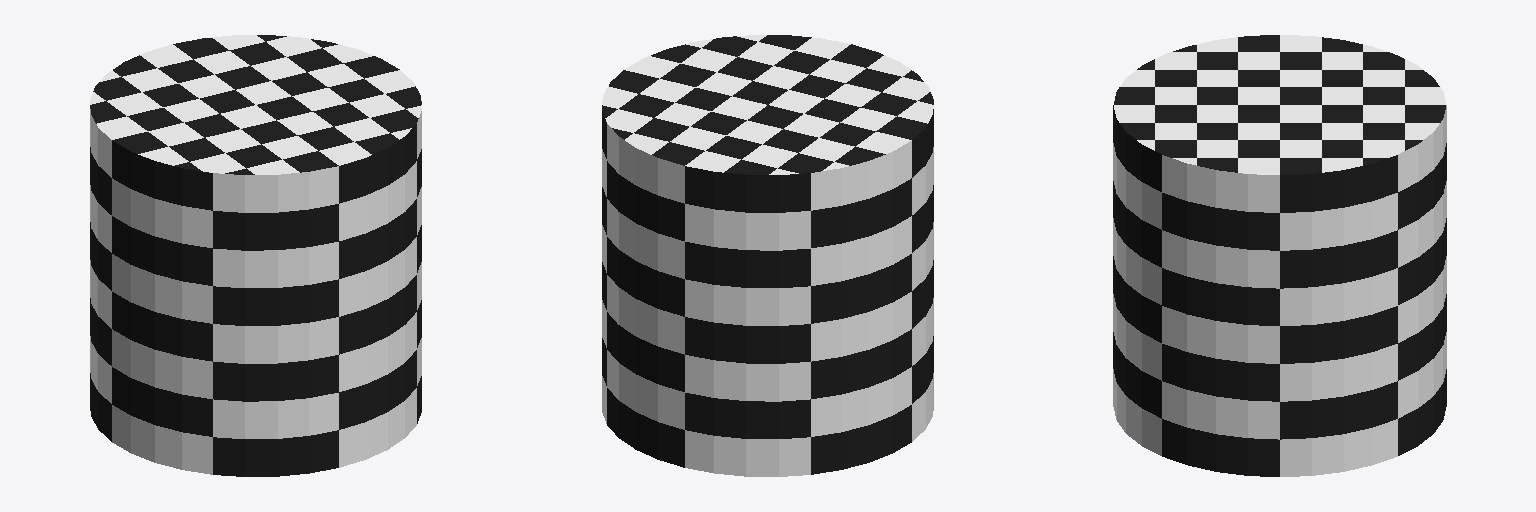
3 views of the same model, side by side, from view 1: azimuth 30°, elevation 25°; view 2: azimuth 150°, elevation 25°; view 3: azimuth 270°, elevation 25° (orthographic).
Size of the model in its own units: 2 by 2 by 2.
Materials: 1 (1 with a texture image).